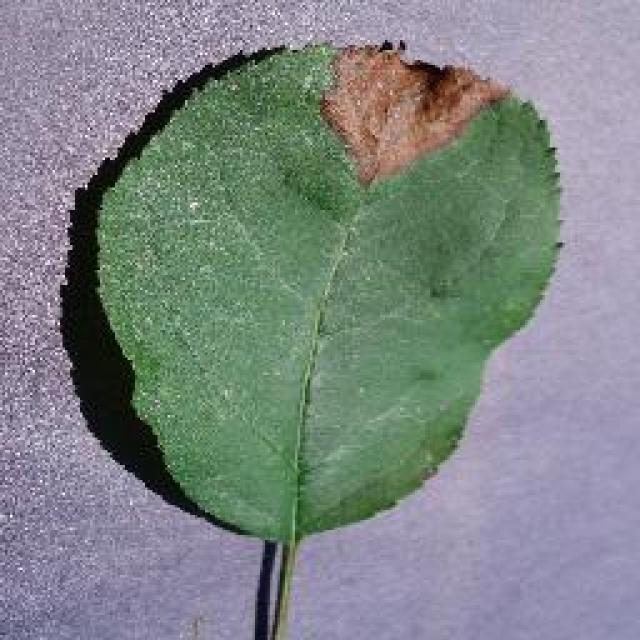Black_rot: (90, 38, 562, 548)
